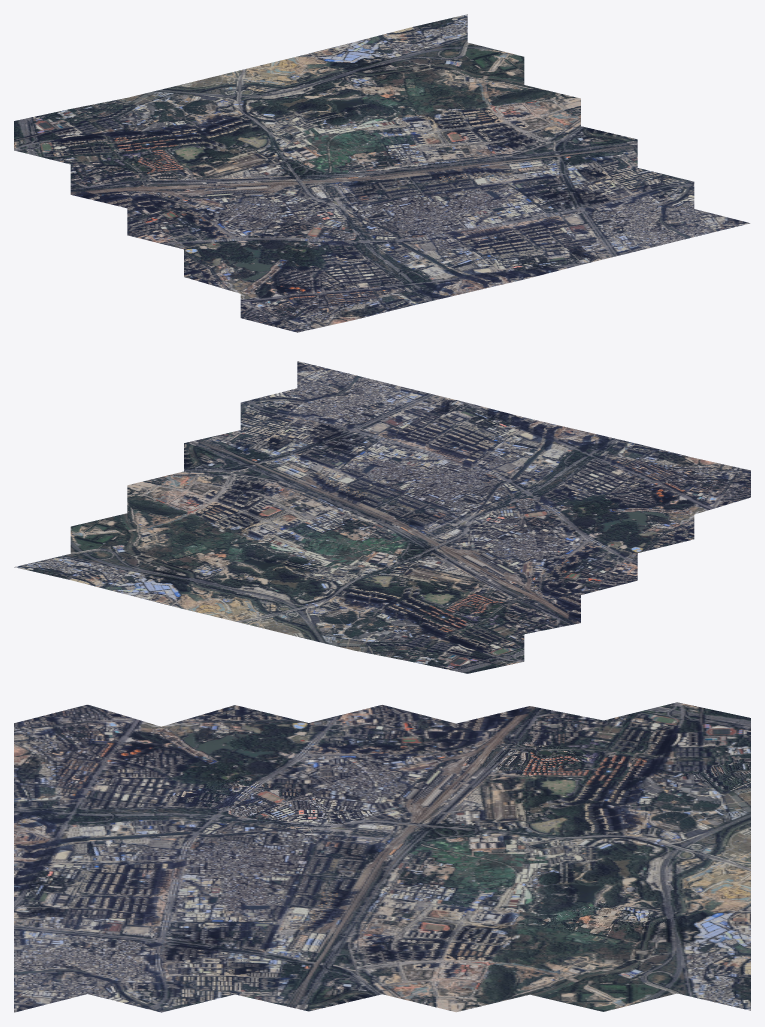
File: Venue.fbx
The picture shows the model from 3 angles, top to bottom: view 1: azimuth 30°, elevation 25°; view 2: azimuth 150°, elevation 25°; view 3: azimuth 270°, elevation 25°; orthographic projection. The views are drawn at different scales.
Parts seen in each view (by area): view 1: TERRAIN0; view 2: TERRAIN0; view 3: TERRAIN0.
Boxes of the visible parts, x1,y1,x2,y2 form: TERRAIN0: (14, 14, 750, 332); TERRAIN0: (14, 361, 750, 673); TERRAIN0: (14, 702, 750, 1012).
Bounding box in the file's own units: 4250 × 56.43 × 4330.
